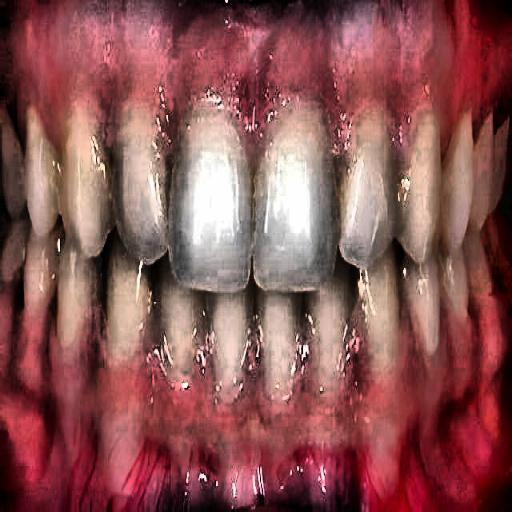Healthy: (31, 99, 495, 368)
